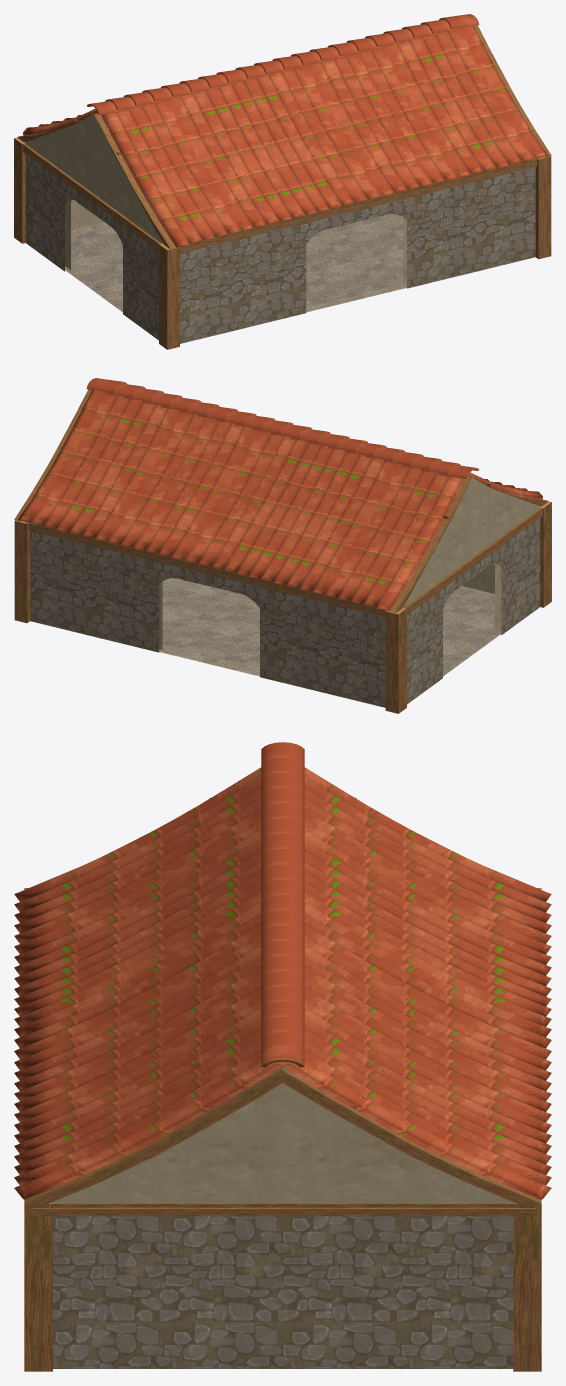
The model's file is Building5Whole.glb.
3 renders of one model, top to bottom at view 1: azimuth 30°, elevation 25°; view 2: azimuth 150°, elevation 25°; view 3: azimuth 270°, elevation 25°, orthographic. The views are drawn at different scales.
Parts seen in each view (by area): view 1: Roof_RoundTiles_6x14, Floor_Brick.027; view 2: Roof_RoundTiles_6x14, Floor_Brick.027; view 3: Roof_RoundTiles_6x14, Floor_Brick.027.
Boxes of the visible parts, box(x1,y1,x2,y2) form: Roof_RoundTiles_6x14: box(18, 14, 551, 248); Floor_Brick.027: box(14, 137, 551, 349); Roof_RoundTiles_6x14: box(14, 378, 548, 612); Floor_Brick.027: box(14, 501, 551, 713); Roof_RoundTiles_6x14: box(14, 742, 551, 1215); Floor_Brick.027: box(24, 888, 541, 1371).
Size of the model in its own units: 12.65 by 5.92 by 9.07.
Materials: 7 (7 with a texture image).
